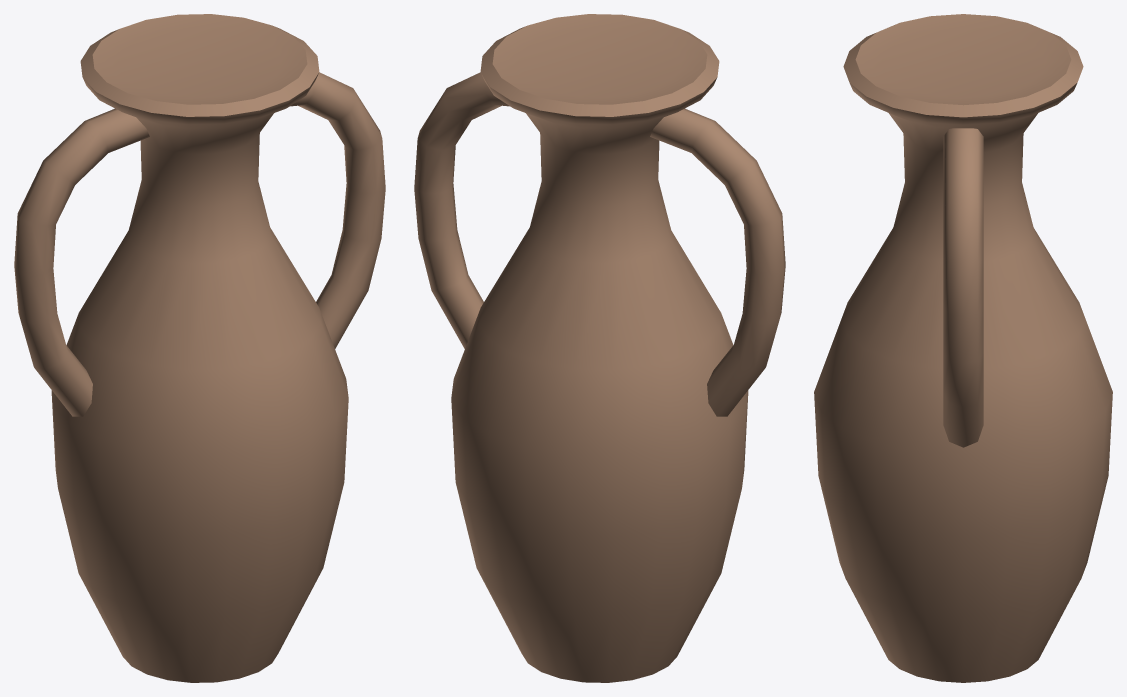
Rendered from mesh_vasija1.fbx.
3 views of the same model, side by side, from view 1: azimuth 30°, elevation 25°; view 2: azimuth 150°, elevation 25°; view 3: azimuth 270°, elevation 25° (orthographic).
Parts seen in each view (by area): view 1: mesh_vasija1; view 2: mesh_vasija1; view 3: mesh_vasija1.
Part boxes in pixels (box(x1,y1,x2,y2)): mesh_vasija1: box(14, 14, 385, 682); mesh_vasija1: box(414, 14, 785, 682); mesh_vasija1: box(814, 14, 1112, 682).
Size of the model in its own units: 52.64 by 80.81 by 37.1.
